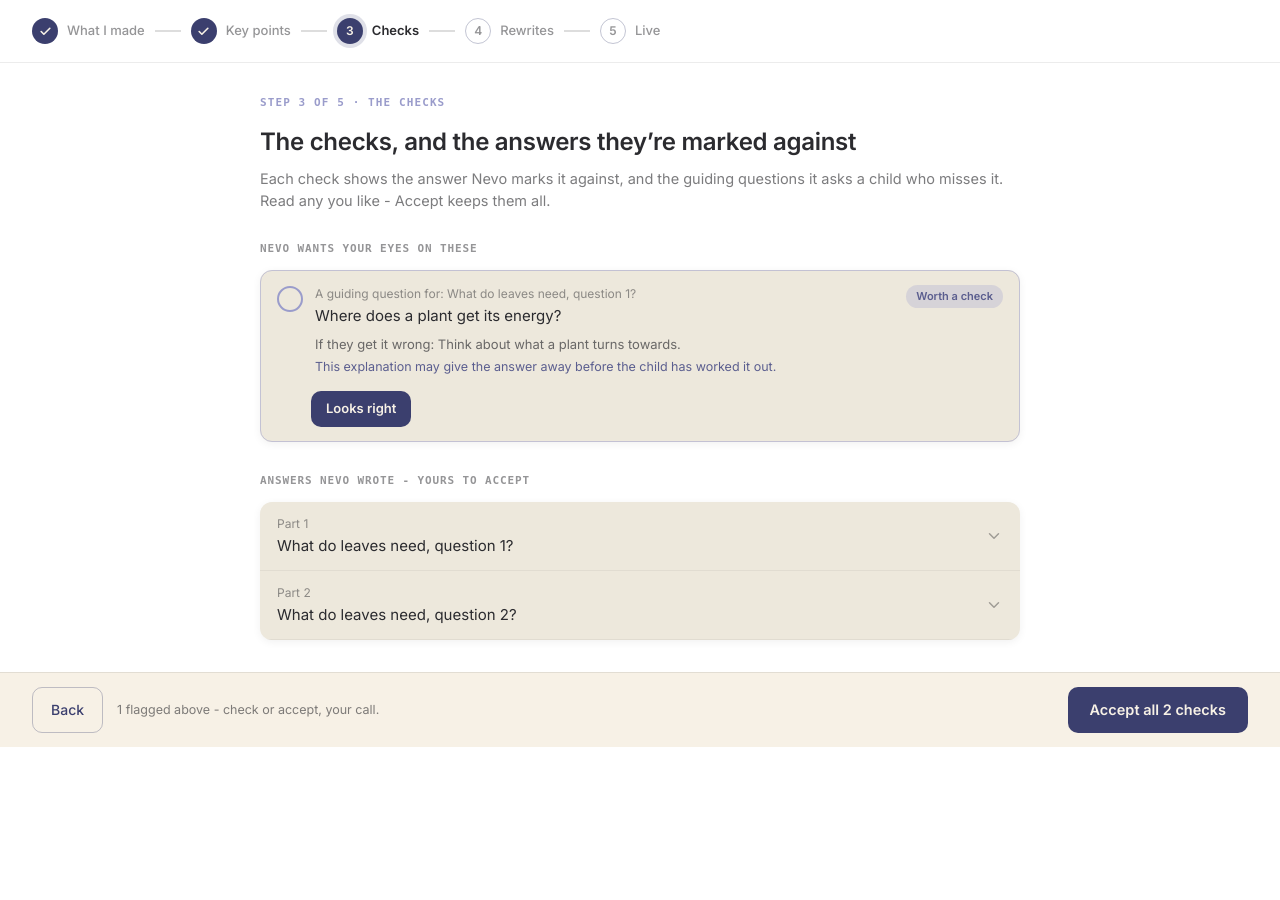
Scenario: a guiding question that may give the answer away › wants a look at the top, without holding the press
Expected: the navigation bar named "Lesson review steps" is shown, [0,0,1279,63]
Expected: the text "Nevo wants your eyes on these" is shown, [260,242,478,255]
Click the button "Looks right": (361,409) [311,391,411,427]
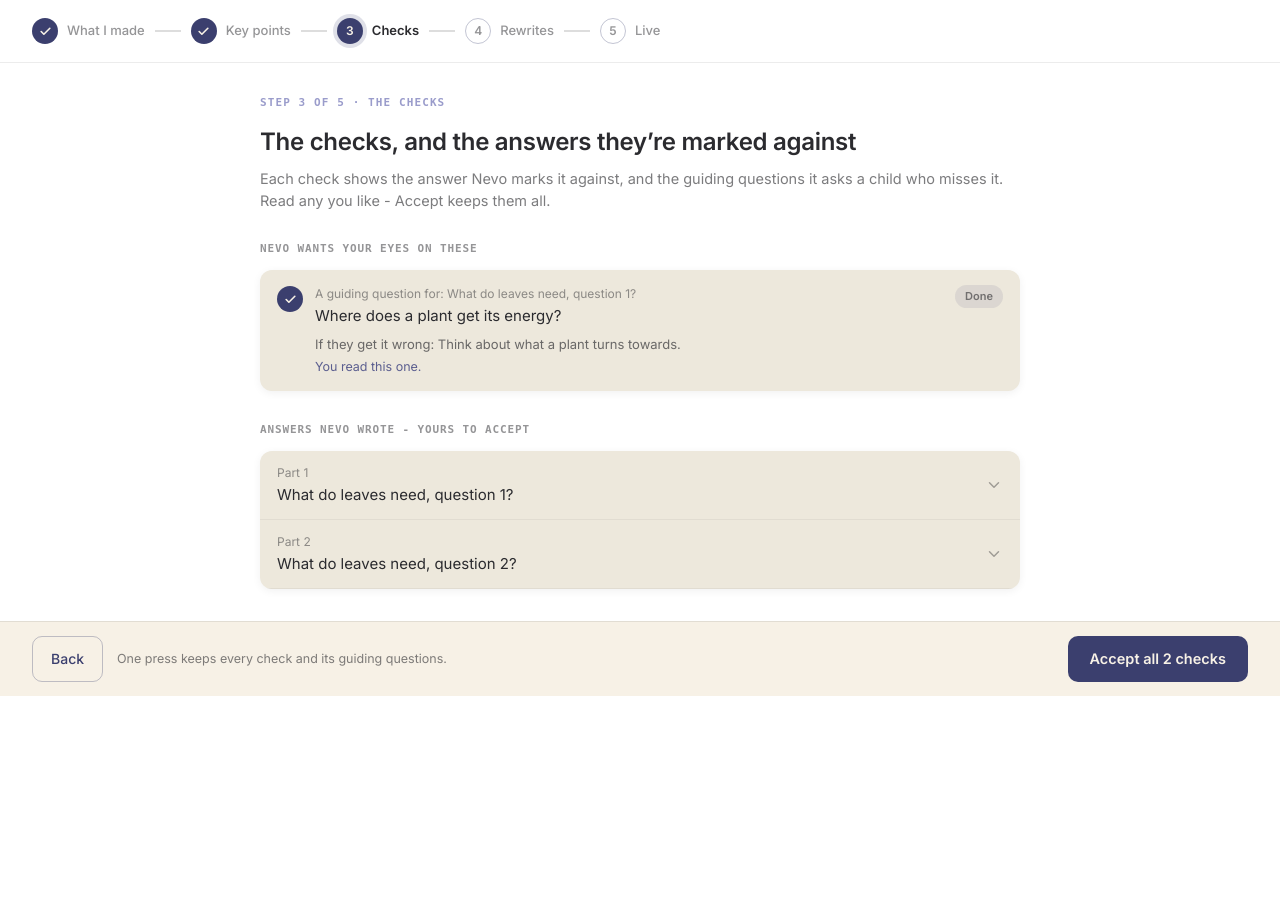
Now the text "You read this one." is shown, box [315,359,421,374]
